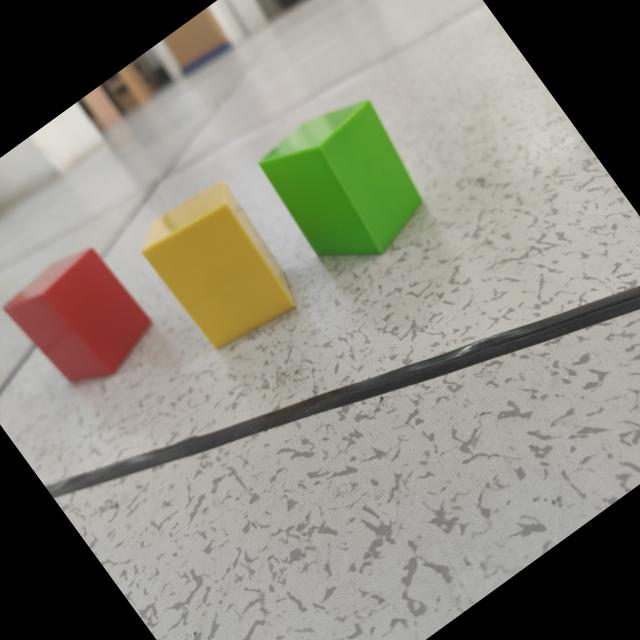green: (259, 99, 425, 259)
red: (3, 246, 153, 385)
yellow: (142, 184, 297, 349)
